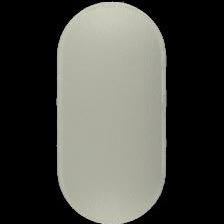0093-2264: (0, 0, 224, 224)
